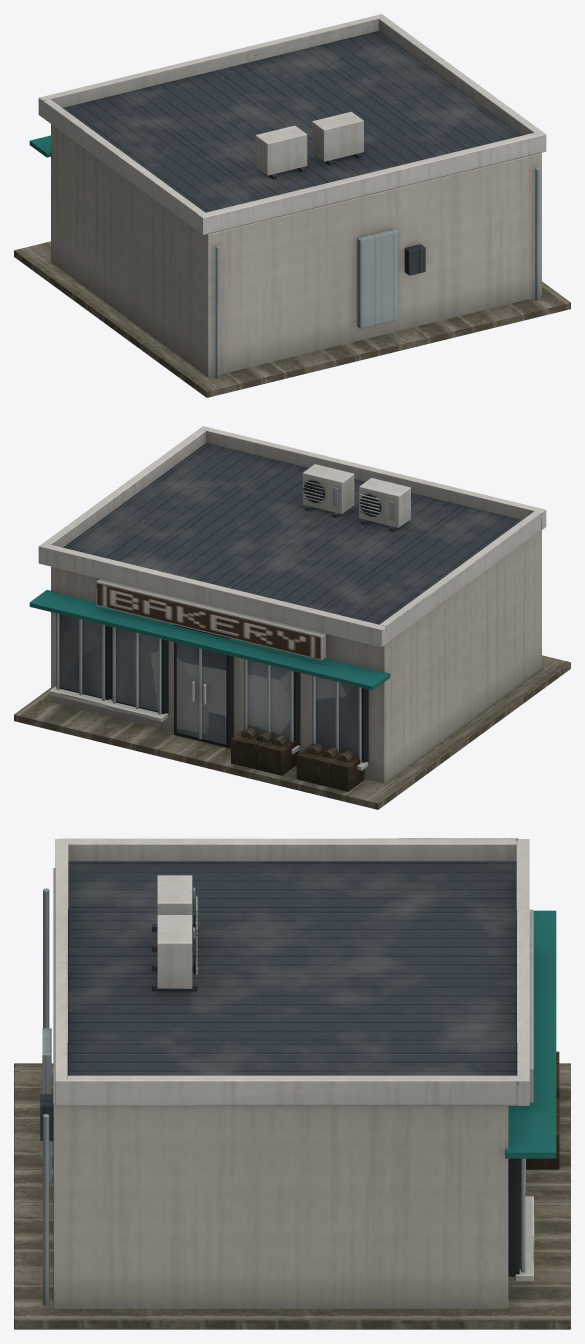
Rendered from shop_005.obj.
3 renders of one model, top to bottom at view 1: azimuth 30°, elevation 25°; view 2: azimuth 150°, elevation 25°; view 3: azimuth 270°, elevation 25°, orthographic. The views are drawn at different scales.
Visible parts, largest first — view 1: shop_005; view 2: shop_005; view 3: shop_005.
Boxes of the visible parts, box(x1,y1,x2,y2) form: shop_005: box(14, 14, 570, 397); shop_005: box(14, 426, 570, 809); shop_005: box(14, 838, 570, 1329).
Size of the model in its own units: 7.75 by 3.88 by 7.1.
Materials: 1 (1 with a texture image).
